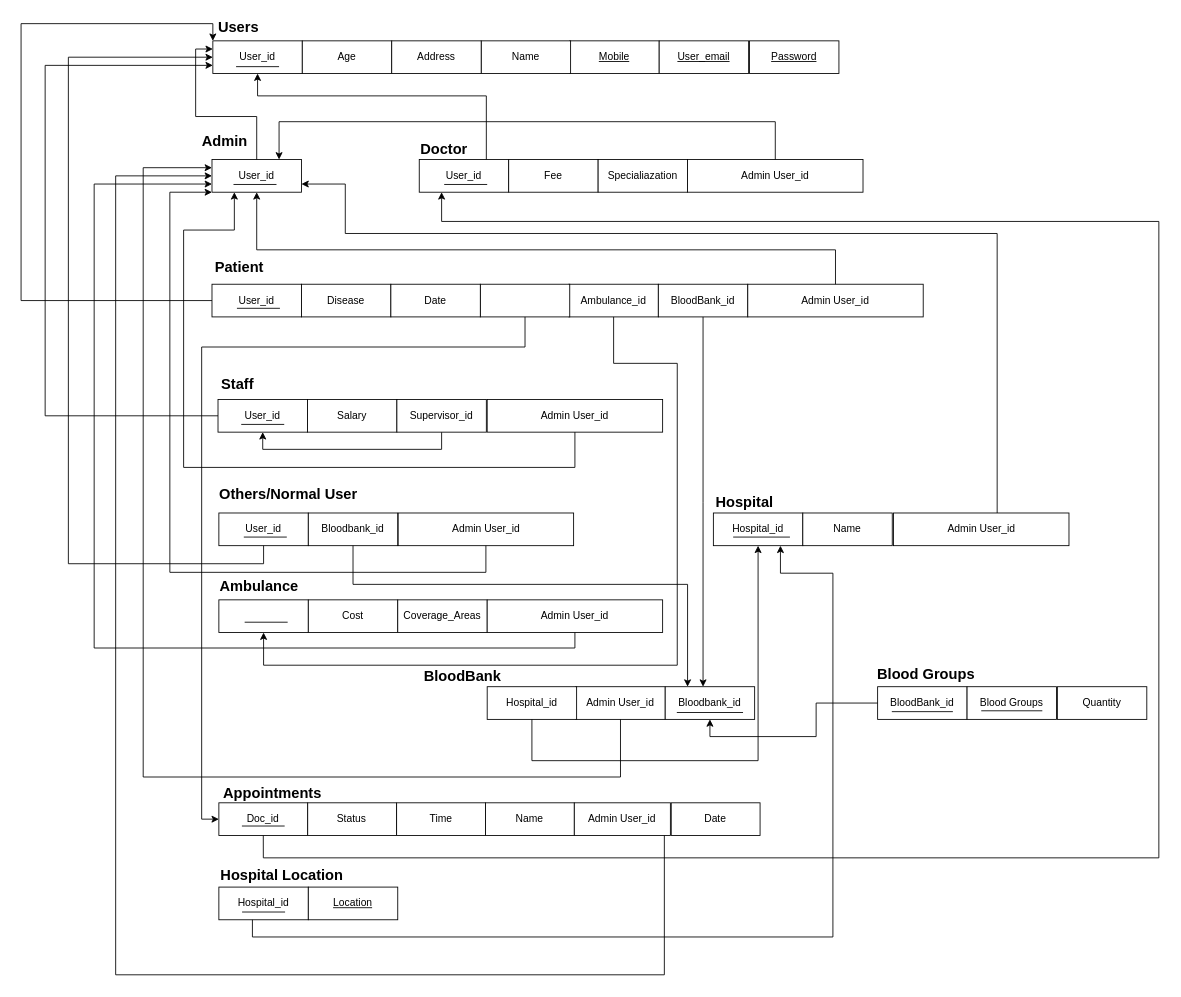
Some shapes in this 1181 by 997 pixel diagram are drawn without their labels. Here are the shapes that lost their labels. From the top down, the centre of each, then its label:
At (524,300): "Appointment_id".
At (263,616): "ID".
